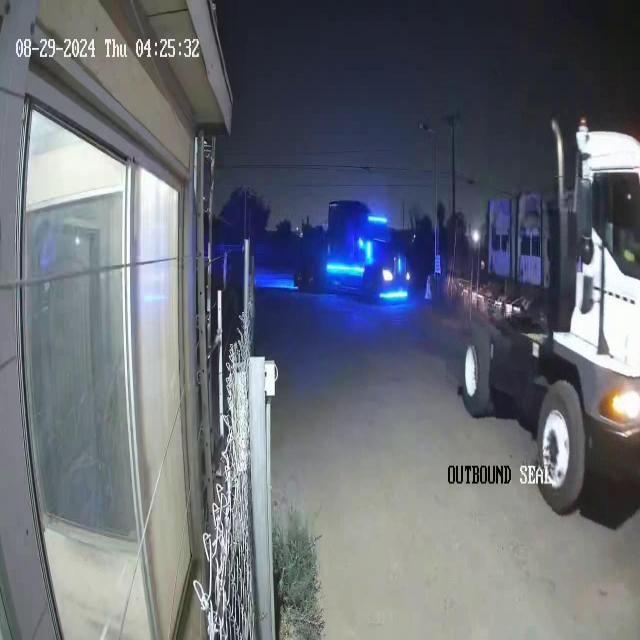TRUCK_IN: (446, 113, 639, 515)
